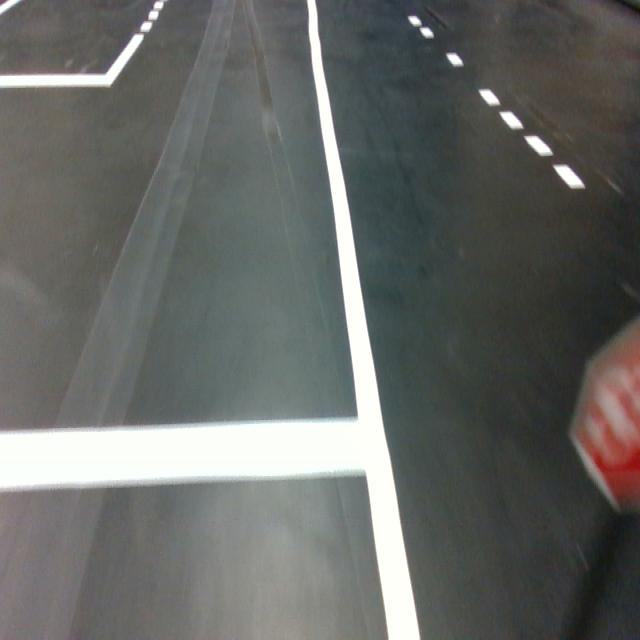stop-sign: (567, 308, 640, 516)
